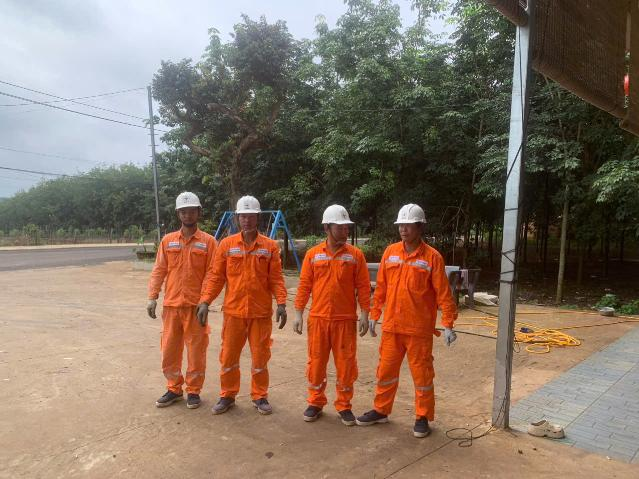gloves: (132, 291, 173, 321), (369, 310, 398, 349), (264, 294, 289, 337), (349, 306, 370, 342), (196, 298, 221, 325), (294, 304, 309, 345), (440, 325, 462, 352)
helmet: (317, 203, 367, 233), (394, 201, 436, 231), (226, 188, 266, 218), (162, 190, 214, 213)
shoes: (408, 409, 444, 445), (358, 407, 401, 437), (298, 385, 327, 428), (249, 385, 279, 426), (148, 383, 186, 413), (214, 391, 244, 422), (336, 401, 358, 440), (184, 383, 207, 416)
